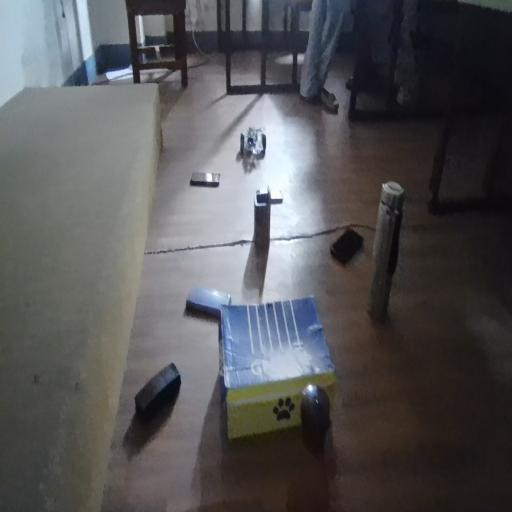car: (236, 119, 273, 176)
